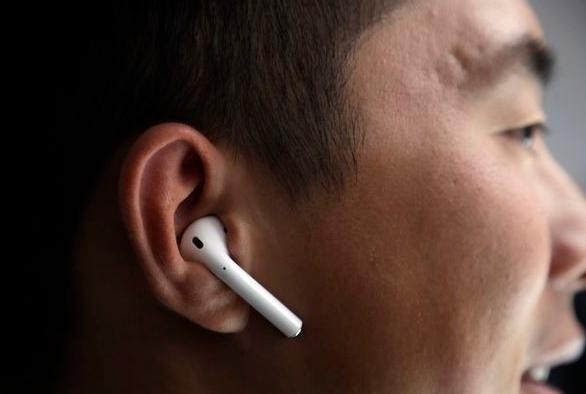earphone: (175, 215, 306, 346)
